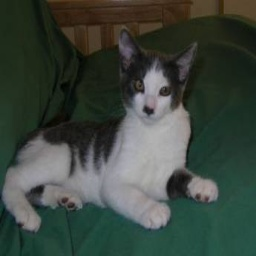cat: (1, 28, 221, 237)
